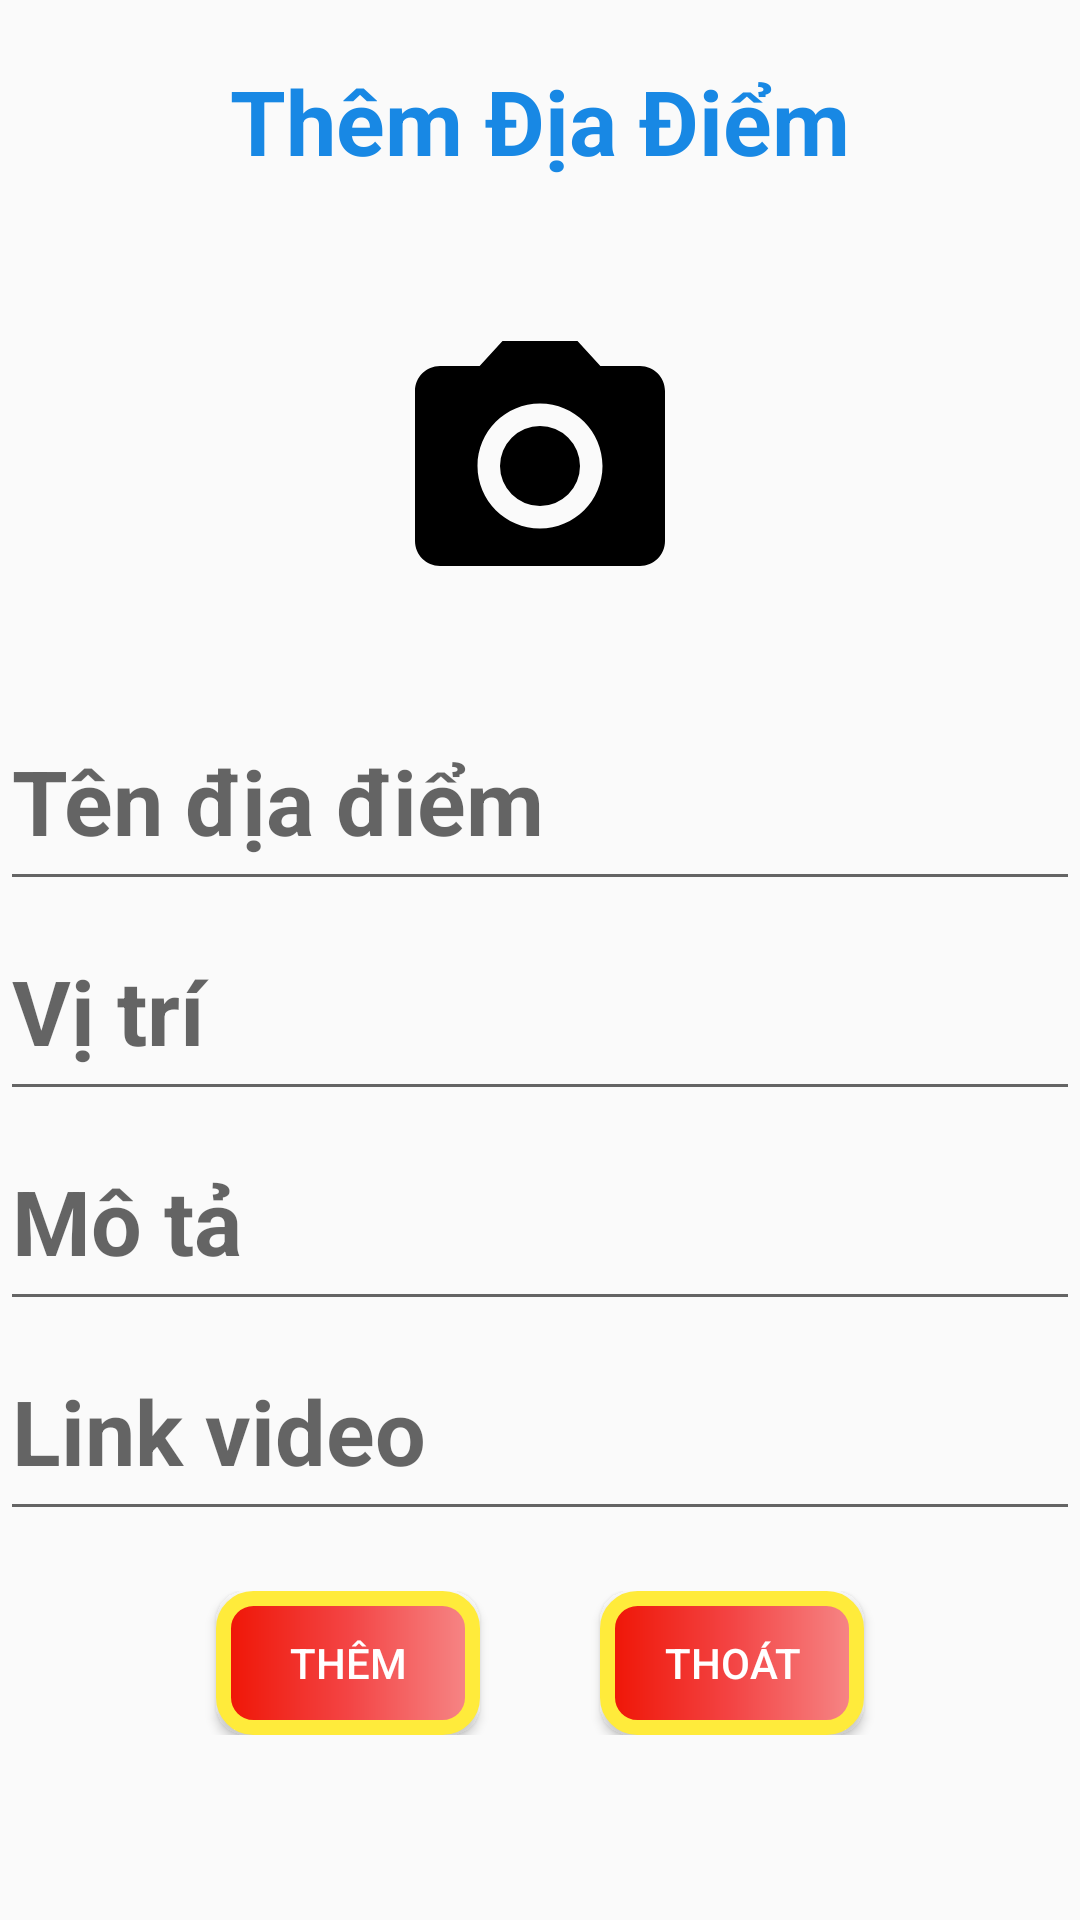

Icon bounding boxes for this 1080 x 1920 phone screenshot, format (x1, y1, x2, y2):
camera: (415, 341, 665, 566)
